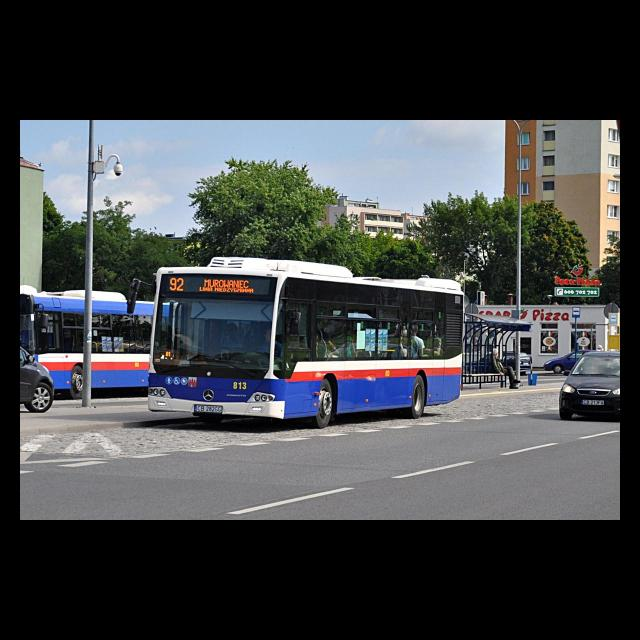Bus: (148, 257, 464, 428)
Car: (560, 352, 620, 420)
Electric pole: (81, 120, 94, 408), (514, 119, 529, 319), (517, 334, 520, 379)
